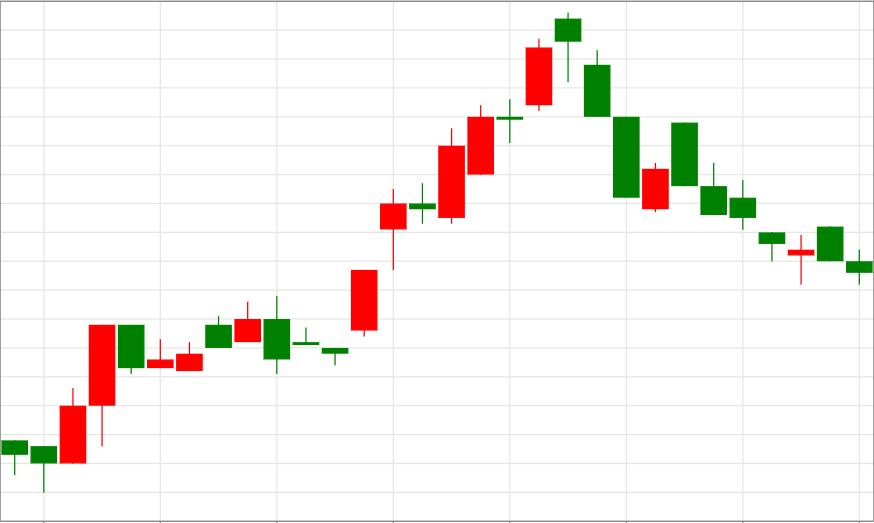evening_star_fall: (351, 12, 611, 336)
